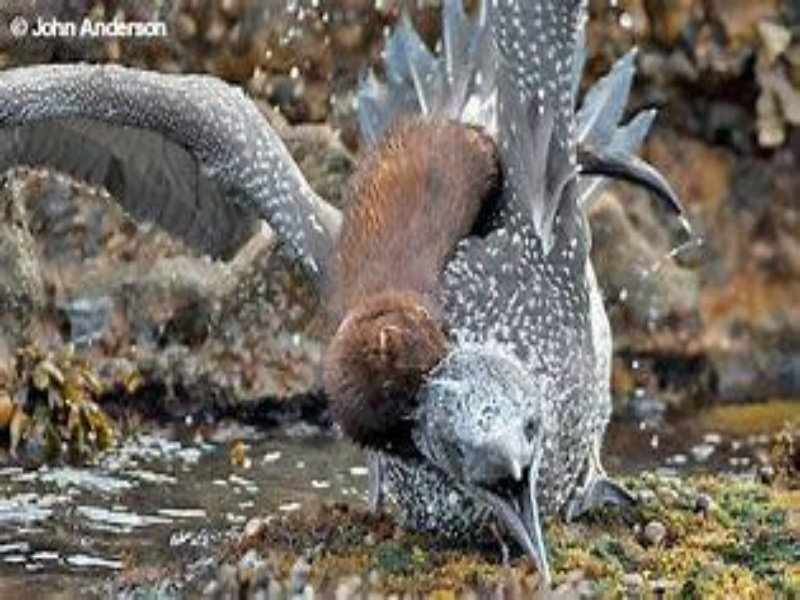minkish: (319, 113, 512, 466)
